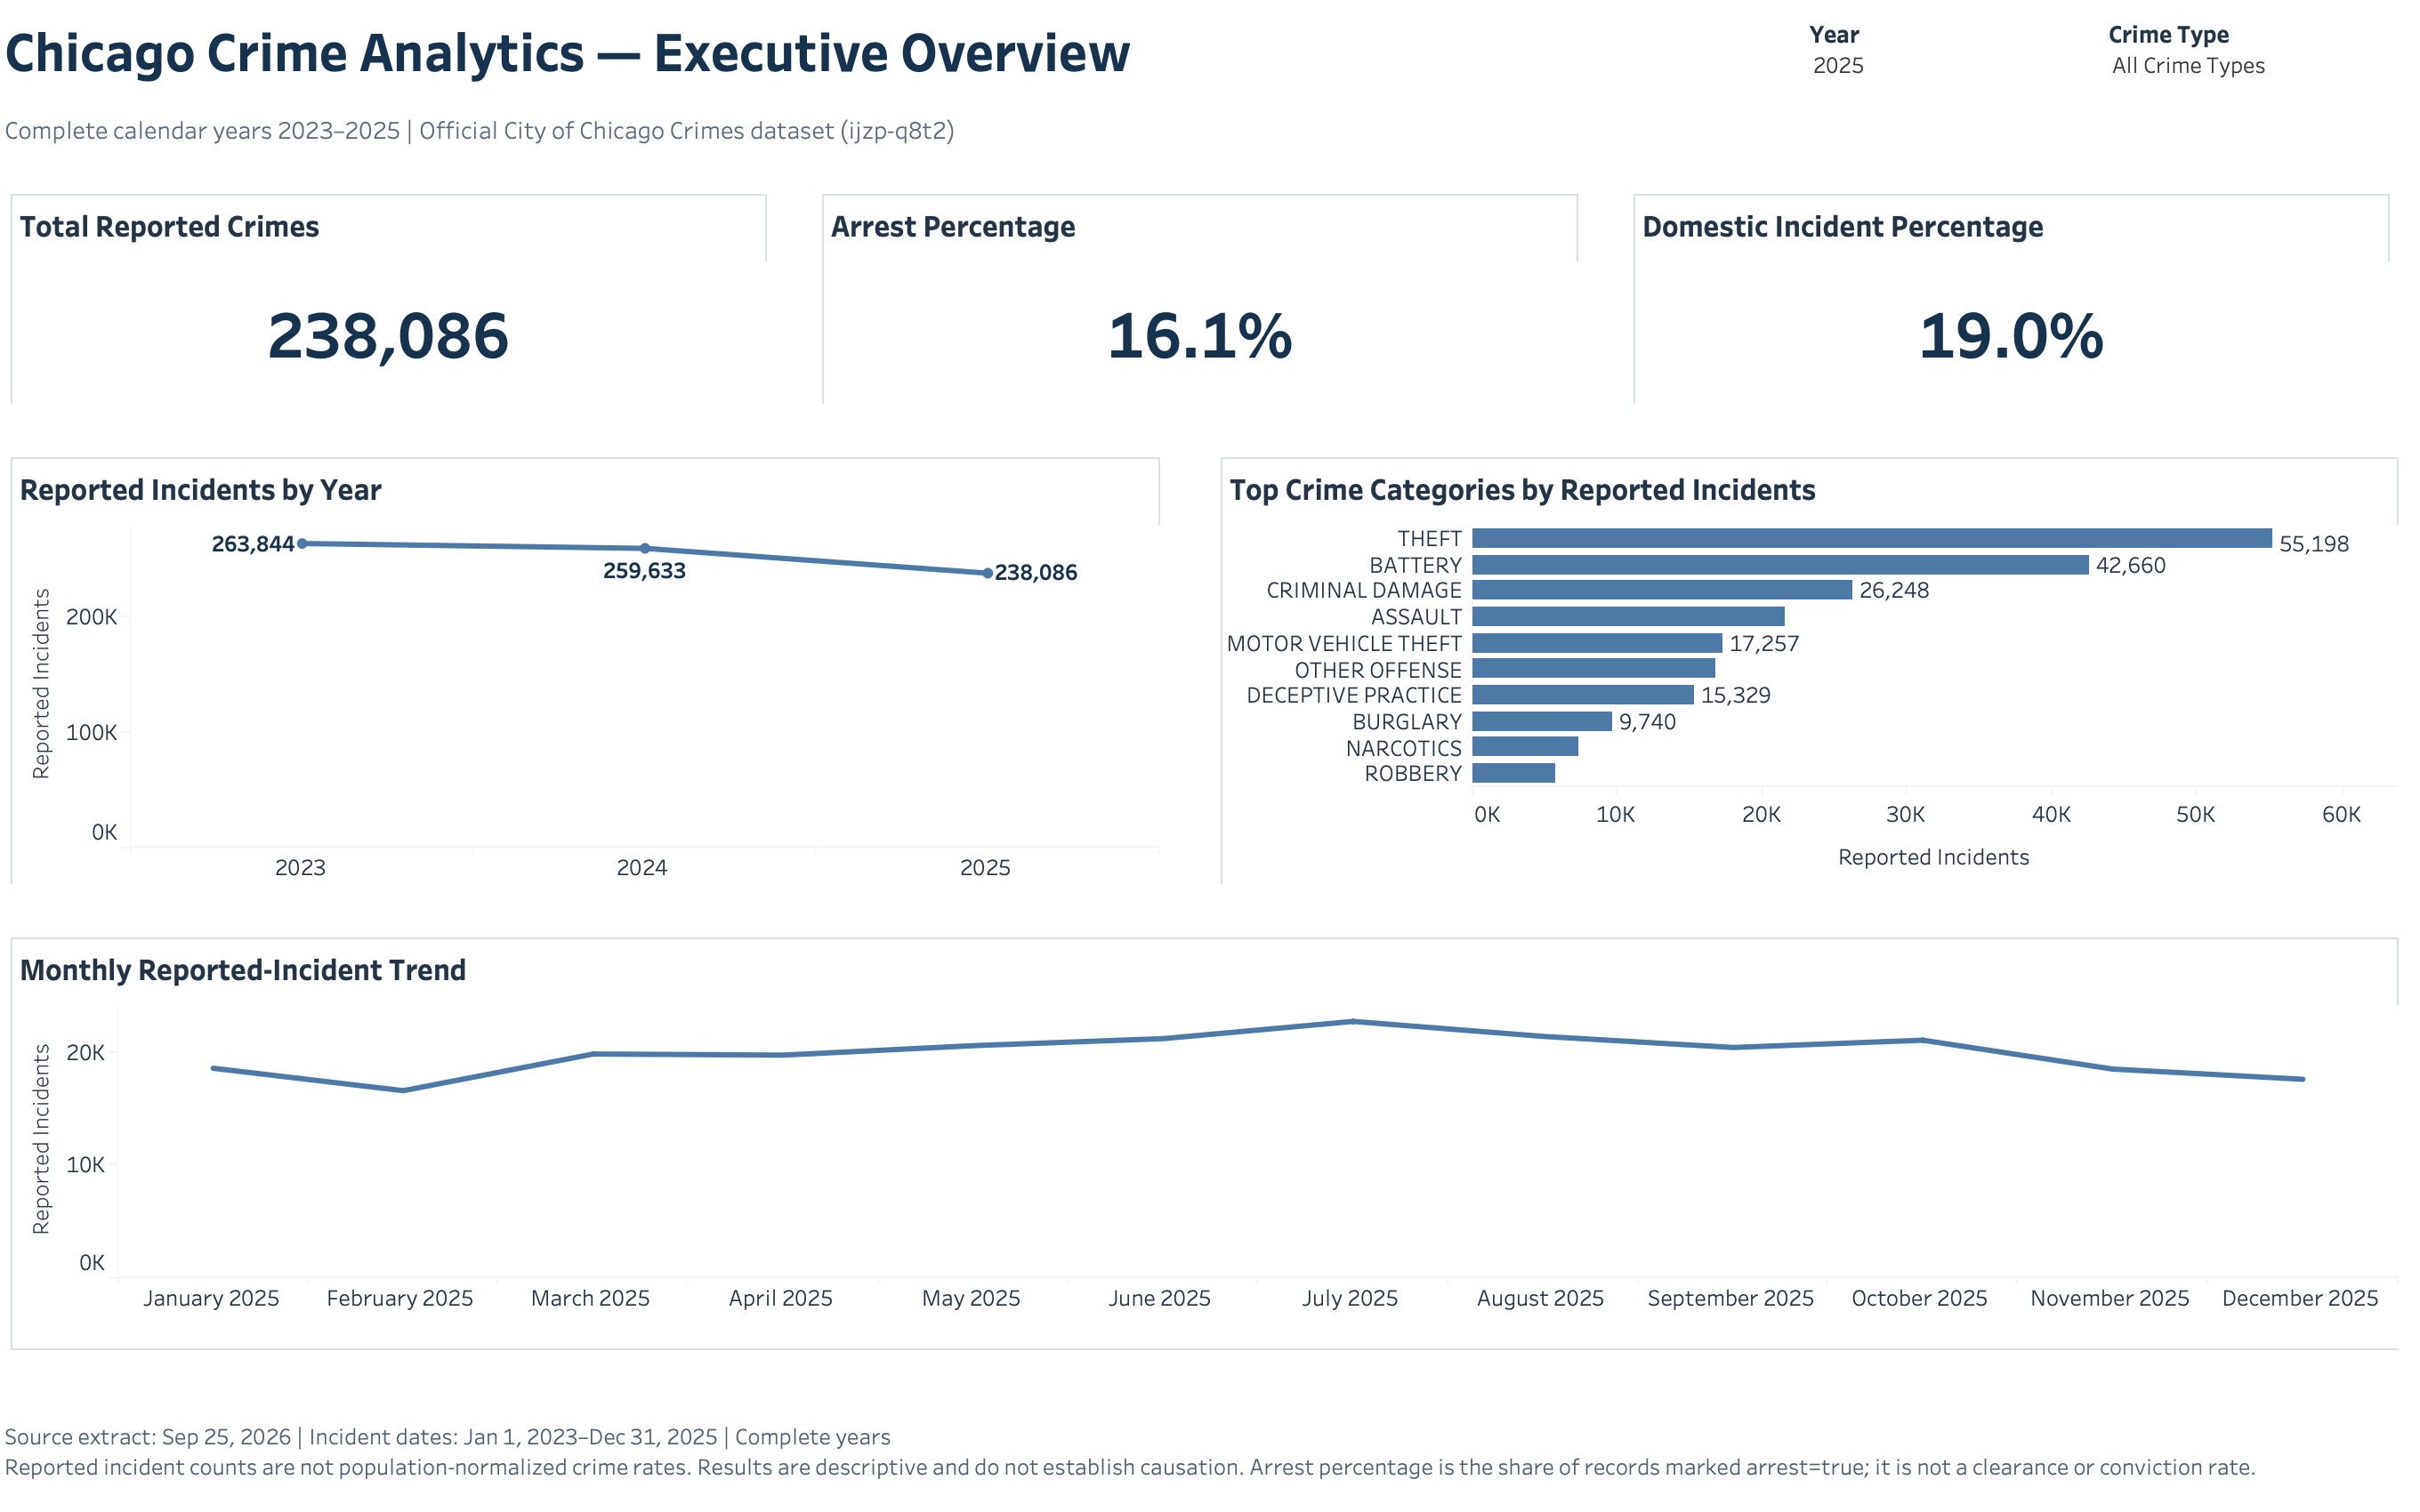

The page's visual inventory and layout, read from the dashboard file:
{"tool":"tableau","page":{"name":"Executive Overview","canvas":[1360,850],"ordinal":0},"visuals":[{"type":"title","box":[24.5,10.2,965.6,61.2]},{"type":"parameter","param":"[Parameters].[pSelectedYear]","box":[1013.2,18.7,156.4,44.2]},{"type":"parameter","param":"[Parameters].[pCrimeType]","box":[1176.4,18.7,170,44.2]},{"type":"text","box":[24.5,66.3,965.6,30.6]},{"type":"worksheet","title":"Total Reported Crimes","mark":"Text","box":[24.5,110.5,424.3,127.5]},{"type":"worksheet","title":"Arrest Percentage","mark":"Text","box":[467.8,110.5,424.3,127.5]},{"type":"worksheet","title":"Domestic Incident Percentage","mark":"Text","box":[911.2,110.5,424.3,127.5]},{"type":"worksheet","title":"Yearly Crime Trend","mark":"Line","rows":["reported_incident_count"],"cols":["crime_year"],"box":[24.5,255,639.2,246.5]},{"type":"worksheet","title":"Crime Category Distribution","mark":"Bar","rows":["primary_type"],"cols":["reported_incident_count"],"box":[685.4,255,655.5,246.5]},{"type":"worksheet","title":"Monthly Crime Trend","mark":"Line","rows":["reported_incident_count"],"cols":["month_start"],"box":[24.5,518.5,1316.5,238]},{"type":"text","box":[24.5,773.5,1316.5,66.3]}]}

Visuals, with their boxes in screenshot pixels (x1, y1, x2, y2), scaled from the page's 1360x850 canvas onto the 2420x1512 screenshot:
title: [x1=44, y1=18, x2=1762, y2=127]
parameter: [x1=1803, y1=33, x2=2081, y2=112]
parameter: [x1=2093, y1=33, x2=2396, y2=112]
text: [x1=44, y1=118, x2=1762, y2=173]
"Total Reported Crimes" worksheet (Text marks): [x1=44, y1=197, x2=799, y2=423]
"Arrest Percentage" worksheet (Text marks): [x1=833, y1=197, x2=1587, y2=423]
"Domestic Incident Percentage" worksheet (Text marks): [x1=1621, y1=197, x2=2376, y2=423]
"Yearly Crime Trend" worksheet (Line marks): [x1=44, y1=454, x2=1181, y2=892]
"Crime Category Distribution" worksheet (Bar marks): [x1=1220, y1=454, x2=2386, y2=892]
"Monthly Crime Trend" worksheet (Line marks): [x1=44, y1=922, x2=2386, y2=1346]
text: [x1=44, y1=1376, x2=2386, y2=1494]
